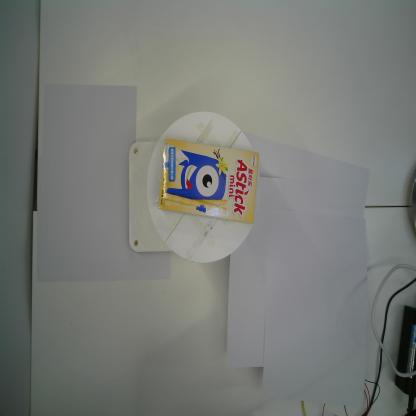Dessert: (157, 136, 260, 226)
